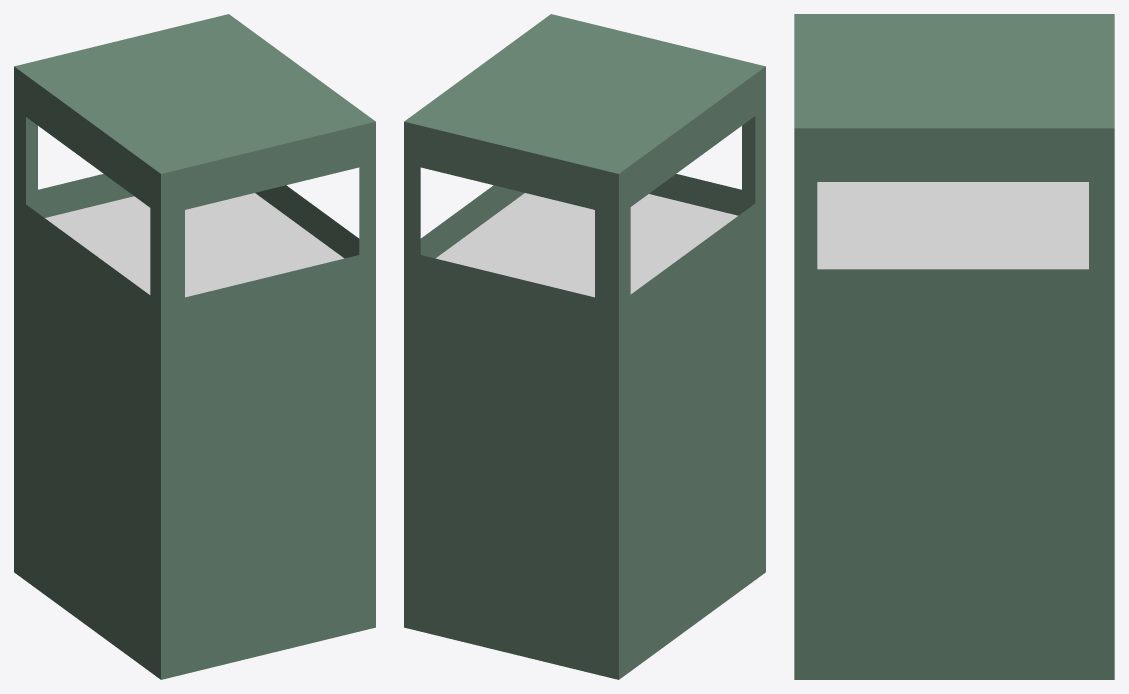
The model's file is trashcan.fbx.
3 renders of one model, left to right at view 1: azimuth 30°, elevation 25°; view 2: azimuth 150°, elevation 25°; view 3: azimuth 270°, elevation 25°, orthographic. The views are drawn at different scales.
Visible parts, largest first — view 1: pCube1, pPlane1; view 2: pCube1, pPlane1; view 3: pCube1, pPlane1.
Part boxes in pixels (box(x1,y1,x2,y2)): pCube1: box(14, 14, 375, 679); pPlane1: box(45, 193, 344, 297); pCube1: box(404, 14, 765, 679); pPlane1: box(435, 193, 737, 297); pCube1: box(794, 14, 1114, 679); pPlane1: box(817, 182, 1088, 269).
Bounding box in the file's own units: 2.42 × 5.44 × 2.87.
